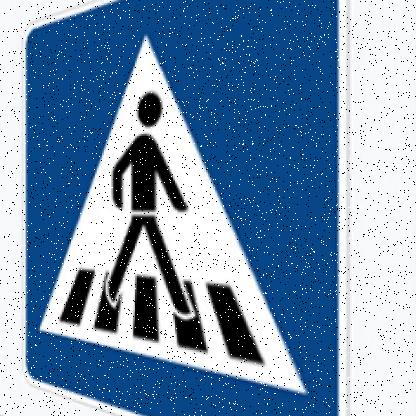Pedestrian Crossing: (21, 1, 351, 416)
